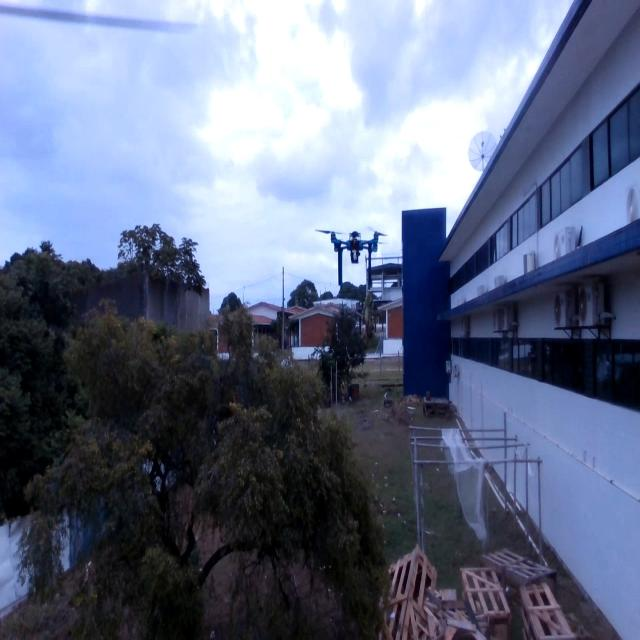-uav-: (306, 214, 402, 322)
